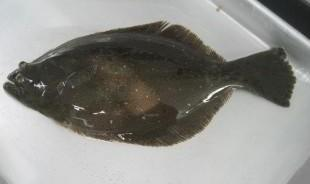fish: (2, 20, 297, 149)
